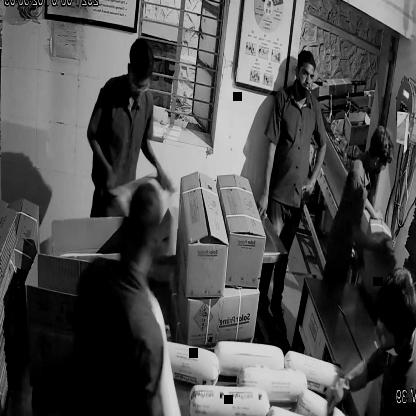goggles: (127, 71, 154, 98)
